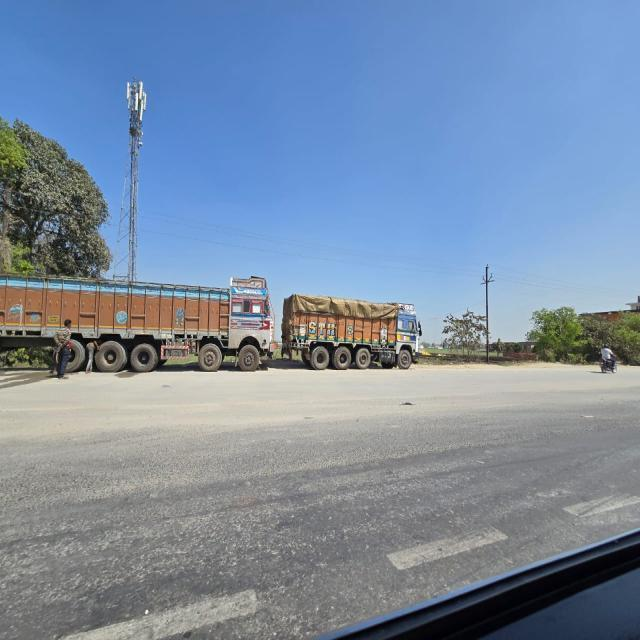covered: (288, 292, 418, 374)
uncovered: (0, 269, 272, 368)
